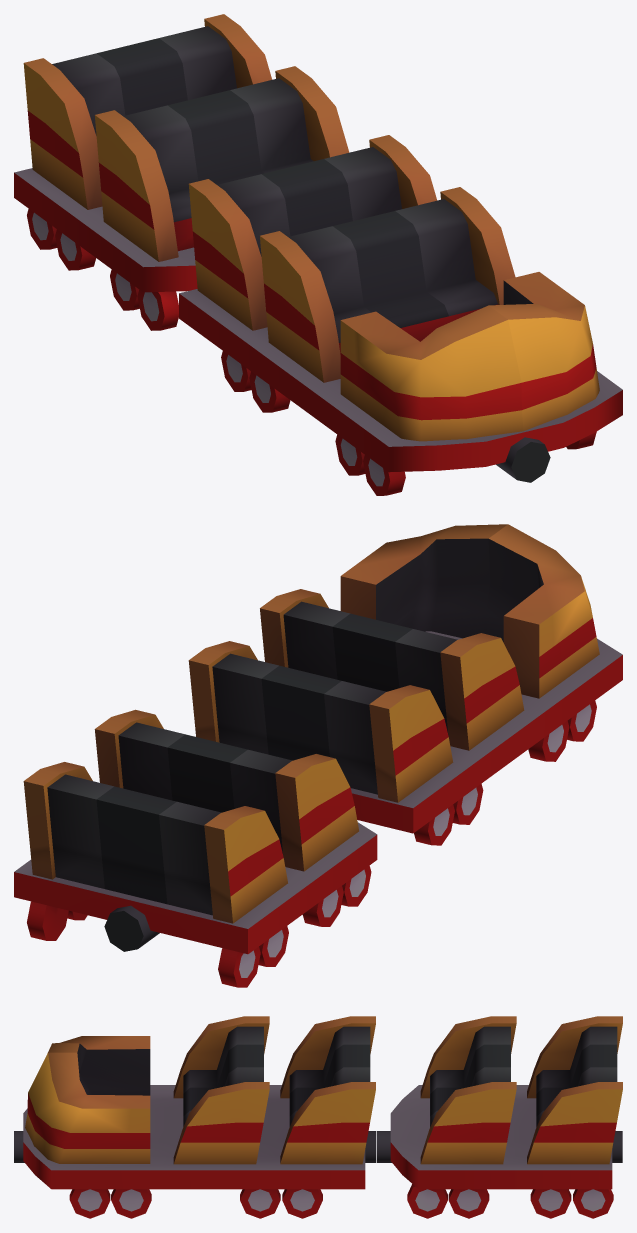
The picture shows the model from 3 angles, top to bottom: view 1: azimuth 30°, elevation 25°; view 2: azimuth 150°, elevation 25°; view 3: azimuth 270°, elevation 25°; orthographic projection. The views are drawn at different scales.
Parts seen in each view (by area): view 1: front.005; view 2: front.005; view 3: front.005.
Boxes of the visible parts, x1,y1,x2,y2 form: front.005: (14, 14, 622, 495); front.005: (14, 524, 622, 987); front.005: (14, 1016, 622, 1218).
Size of the model in its own units: 0.166 by 0.1163 by 0.5.
